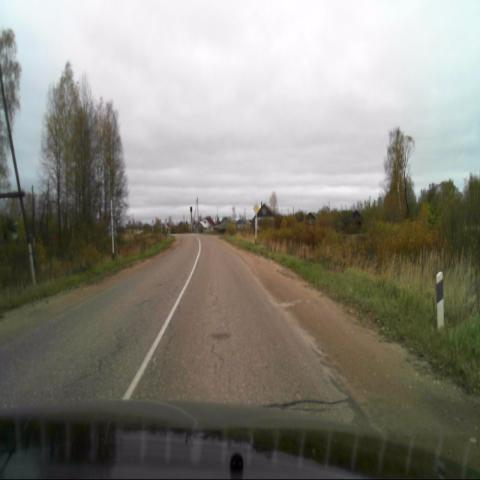2_1: (252, 202, 260, 215)
